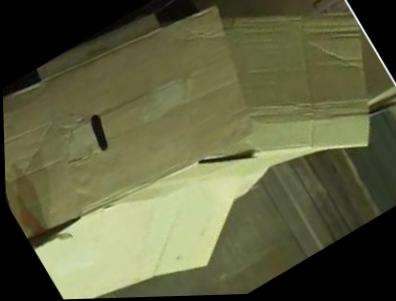cardboard: (3, 0, 395, 300)
